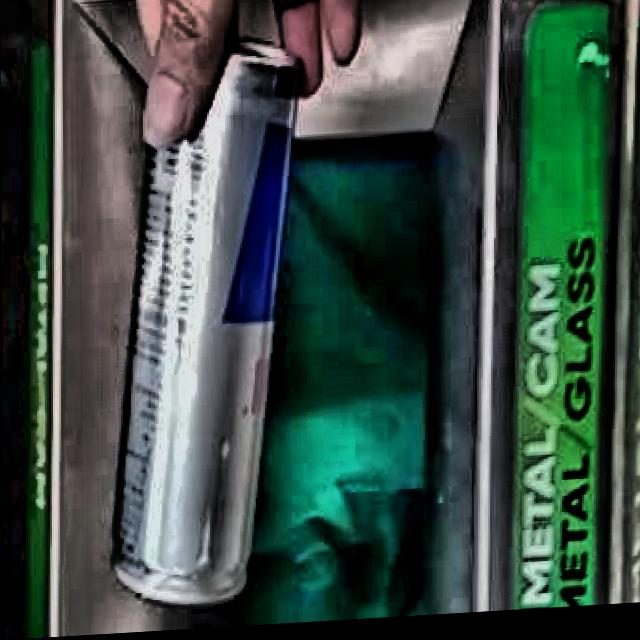metal: (112, 49, 297, 606)
